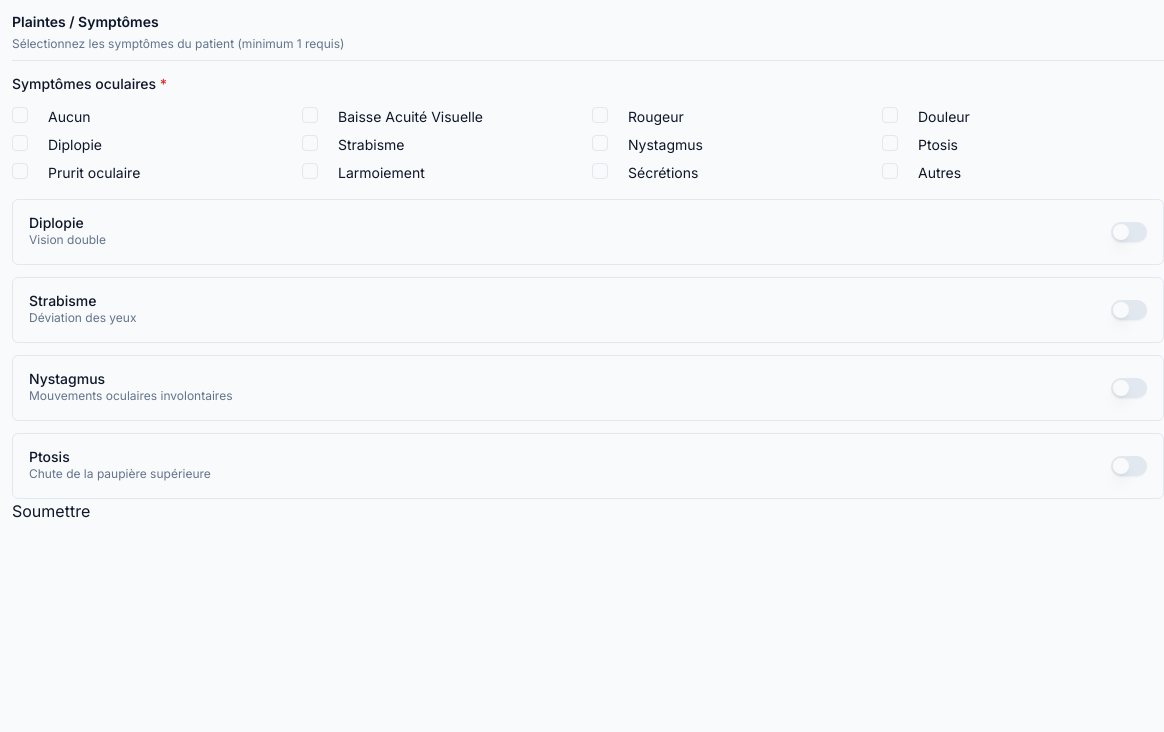
Test case: PlaintesForm › diplopie conditionnel › affiche le select Type quand le switch Diplopie est activé
Step 1. Click the switch named "diplopie" in the row of "Vision double" → point(1129, 232), box left=1111, top=222, right=1147, bottom=242
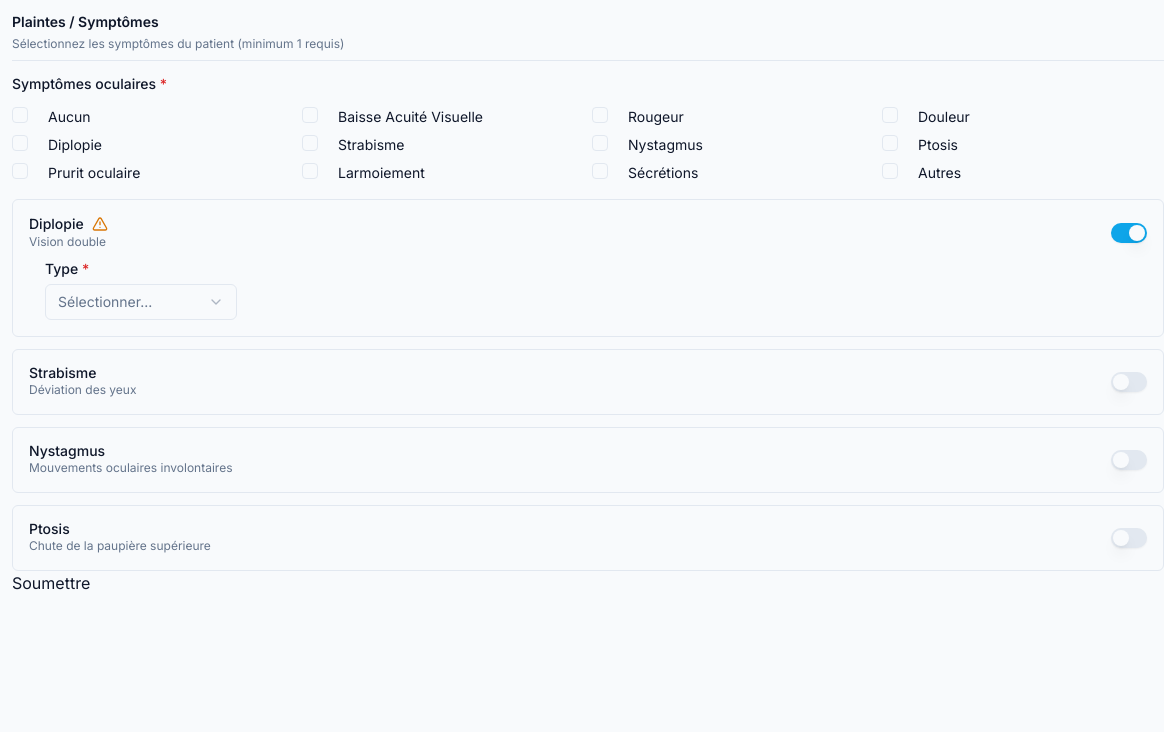
Expected: the dropdown named "type" is shown, left=45, top=284, right=237, bottom=320
